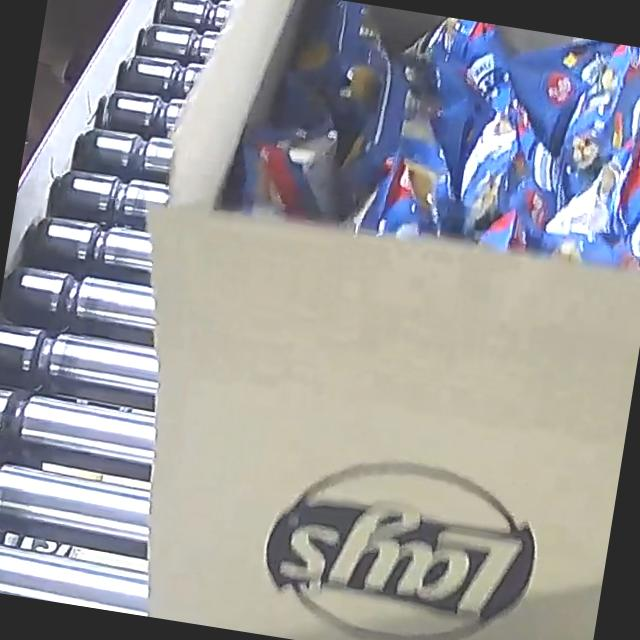paprika: (263, 0, 640, 280)
